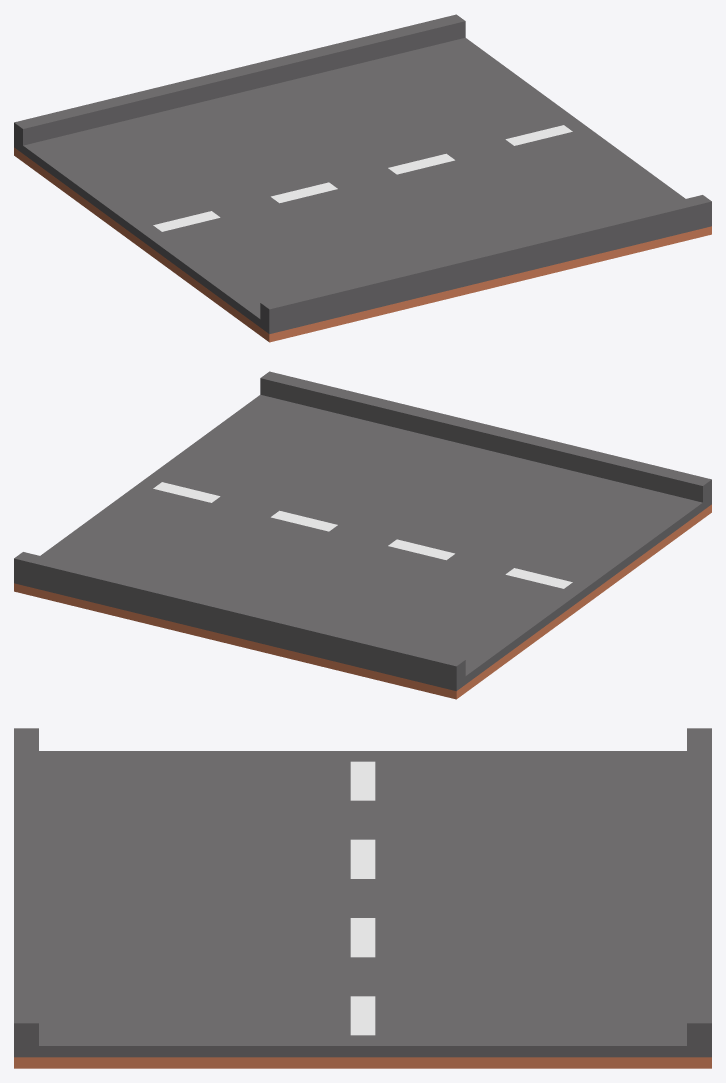
Rendered from RoadTrail.fbx.
The picture shows the model from 3 angles, top to bottom: view 1: azimuth 30°, elevation 25°; view 2: azimuth 150°, elevation 25°; view 3: azimuth 270°, elevation 25°; orthographic projection. The views are drawn at different scales.
Visible parts, largest first — view 1: Soil; view 2: Soil; view 3: Soil.
Part boxes in pixels (bbox=[...]): Soil: bbox=[14, 14, 711, 342]; Soil: bbox=[14, 371, 711, 699]; Soil: bbox=[14, 728, 711, 1068].
Bounding box in the file's own units: 560 × 560 × 40.
